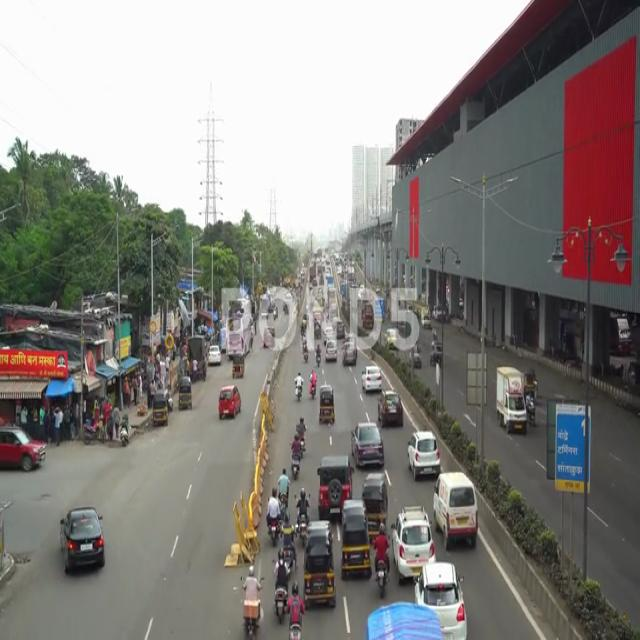car: (59, 514, 111, 576), (434, 473, 480, 538), (391, 513, 438, 569), (318, 449, 350, 512), (406, 429, 439, 476), (352, 422, 382, 467), (215, 387, 245, 425), (377, 389, 403, 426)
motorbike: (240, 564, 264, 640), (373, 524, 390, 598), (286, 580, 305, 640), (271, 547, 286, 618), (266, 486, 277, 548), (290, 432, 302, 479), (298, 488, 306, 543), (295, 369, 304, 402)
rikshaw: (307, 528, 335, 604), (318, 386, 336, 426)
truck: (497, 369, 528, 438)
